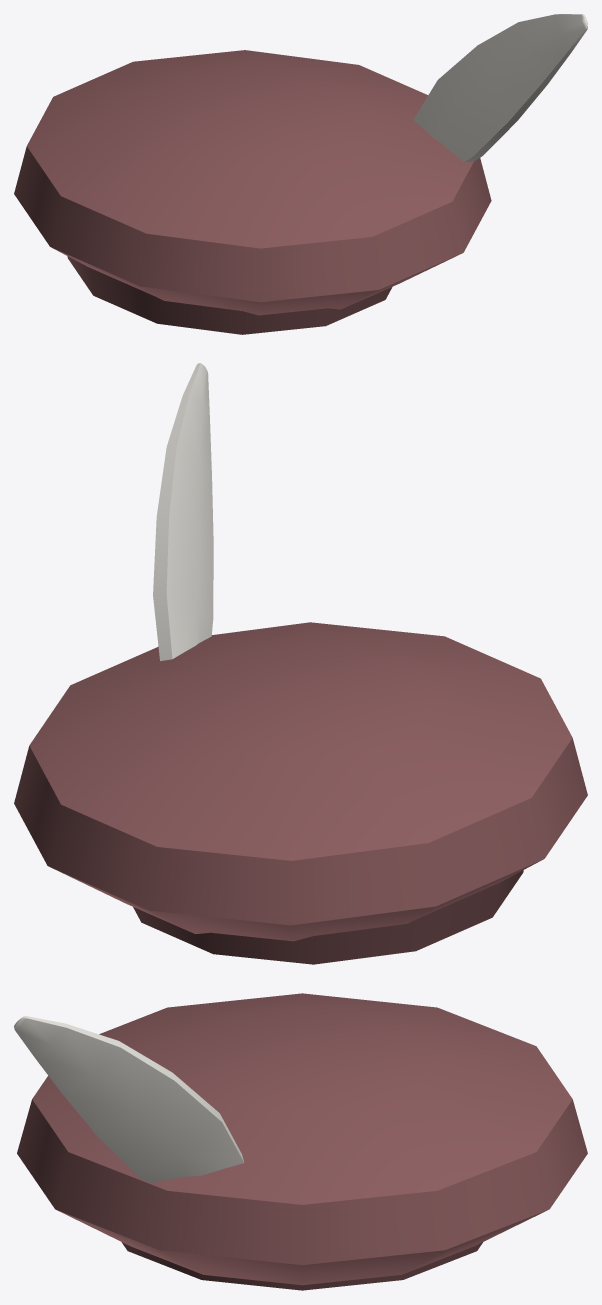
File: cap.gltf
The picture shows the model from 3 angles, top to bottom: view 1: azimuth 30°, elevation 25°; view 2: azimuth 150°, elevation 25°; view 3: azimuth 270°, elevation 25°; orthographic projection. The views are drawn at different scales.
Parts seen in each view (by area): view 1: Body; view 2: Body; view 3: Body.
Part boxes in pixels (x1=…): Body: x1=14, y1=14, x2=587, y2=334; Body: x1=14, y1=363, x2=587, y2=964; Body: x1=14, y1=993, x2=587, y2=1290.
Bounding box in the file's own units: 0.3049 × 0.1992 × 0.3256.
